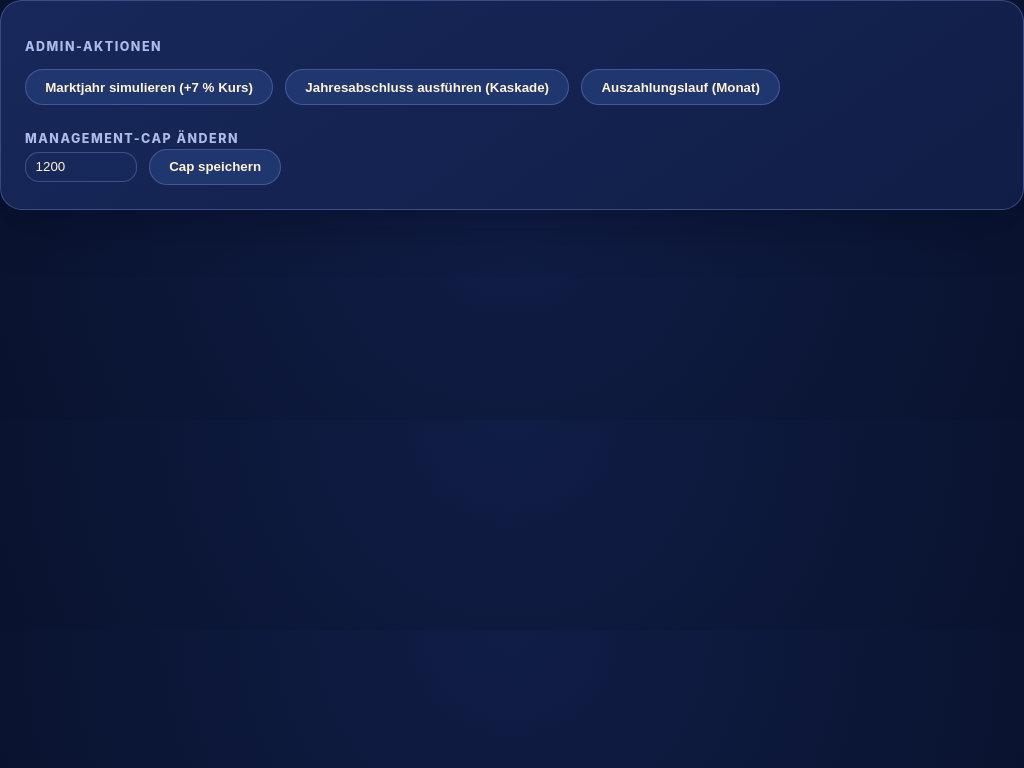
Scenario: AdminAktionen — Marktjahr › zeigt Fehlertext, wenn die Marktjahr-Simulation fehlschlägt
Click the button "Marktjahr simulieren (+7 % Kurs)" at (149, 87), box [25,69,273,106]
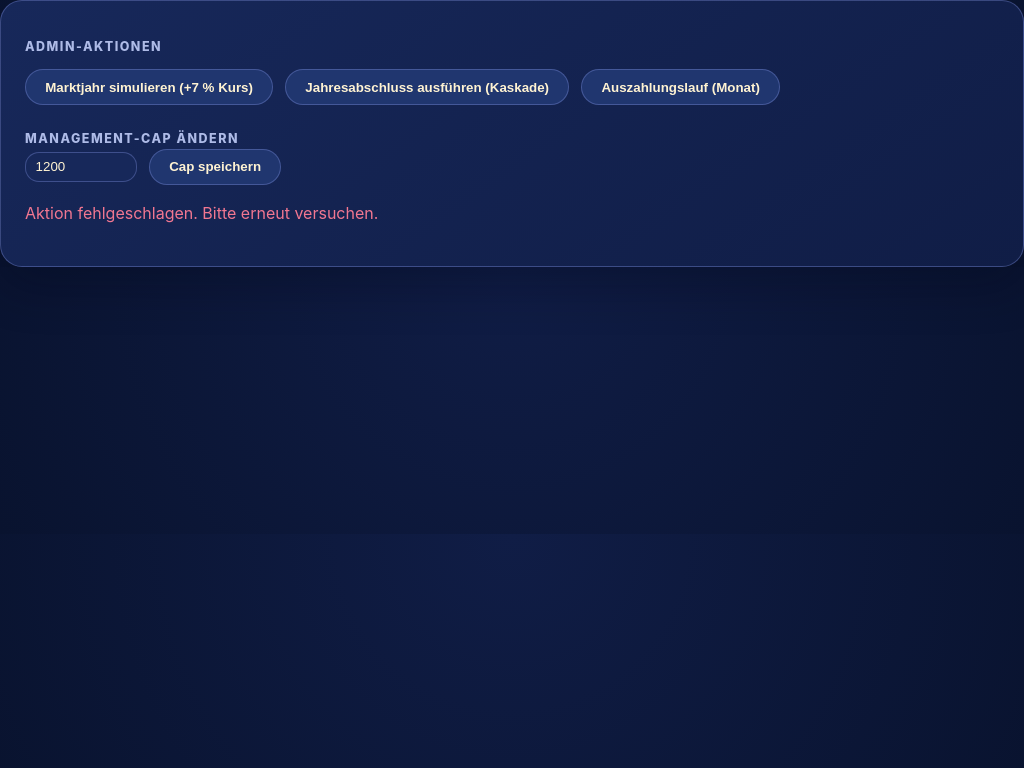
Expected: the text "Aktion fehlgeschlagen. Bitte erneut versuchen." is shown, [25,203,378,223]
